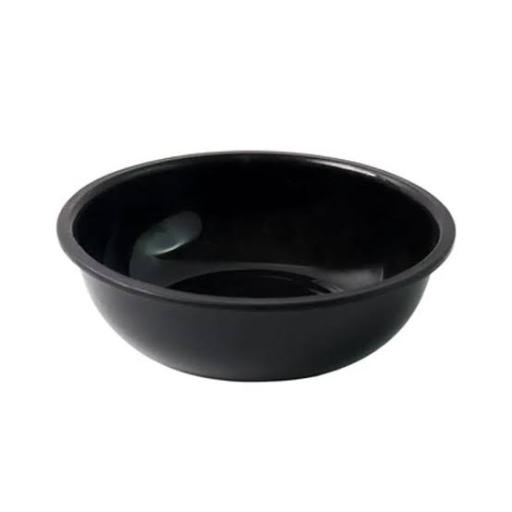Bowl: (56, 152, 455, 381)
